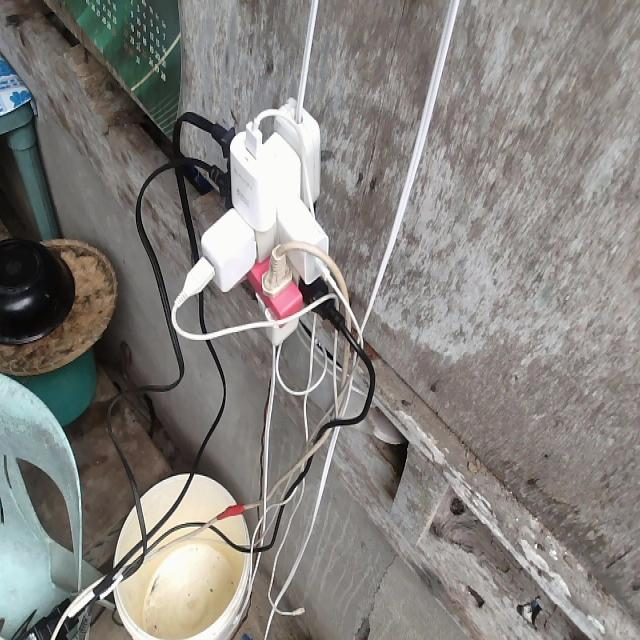-: (185, 93, 327, 348)
